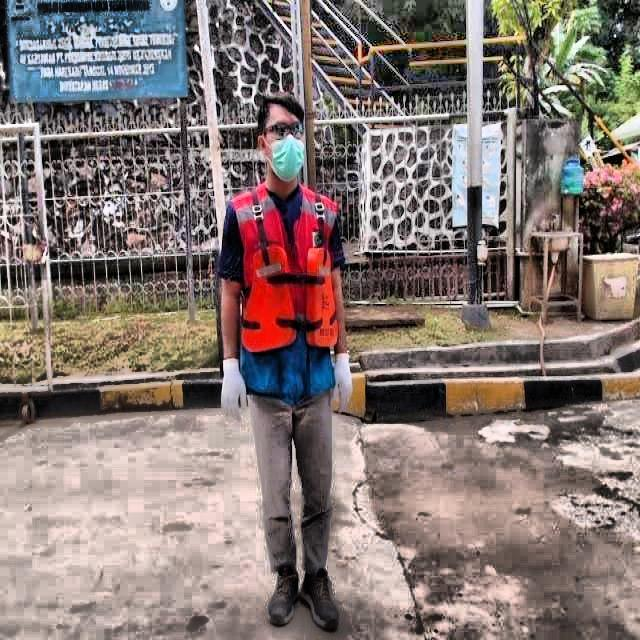safety_jacket: (229, 180, 335, 401)
